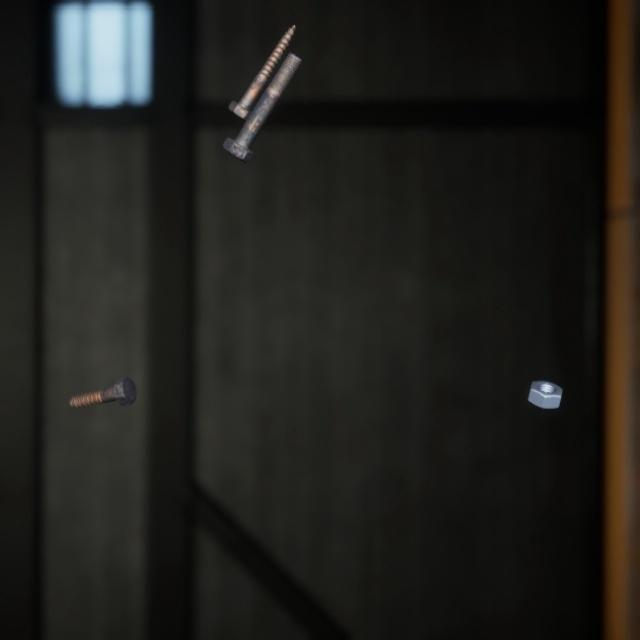bolt: (218, 36, 306, 154), (223, 8, 300, 113), (64, 352, 140, 393)
nut: (523, 356, 566, 393)
